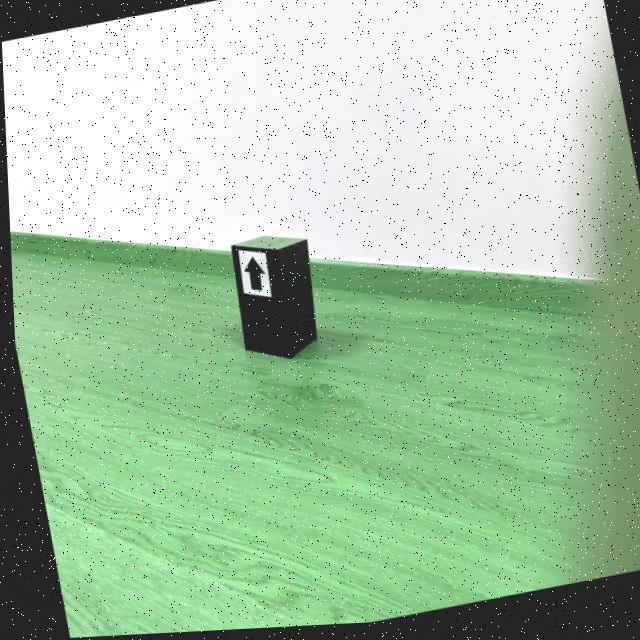UP: (241, 259, 263, 293)
